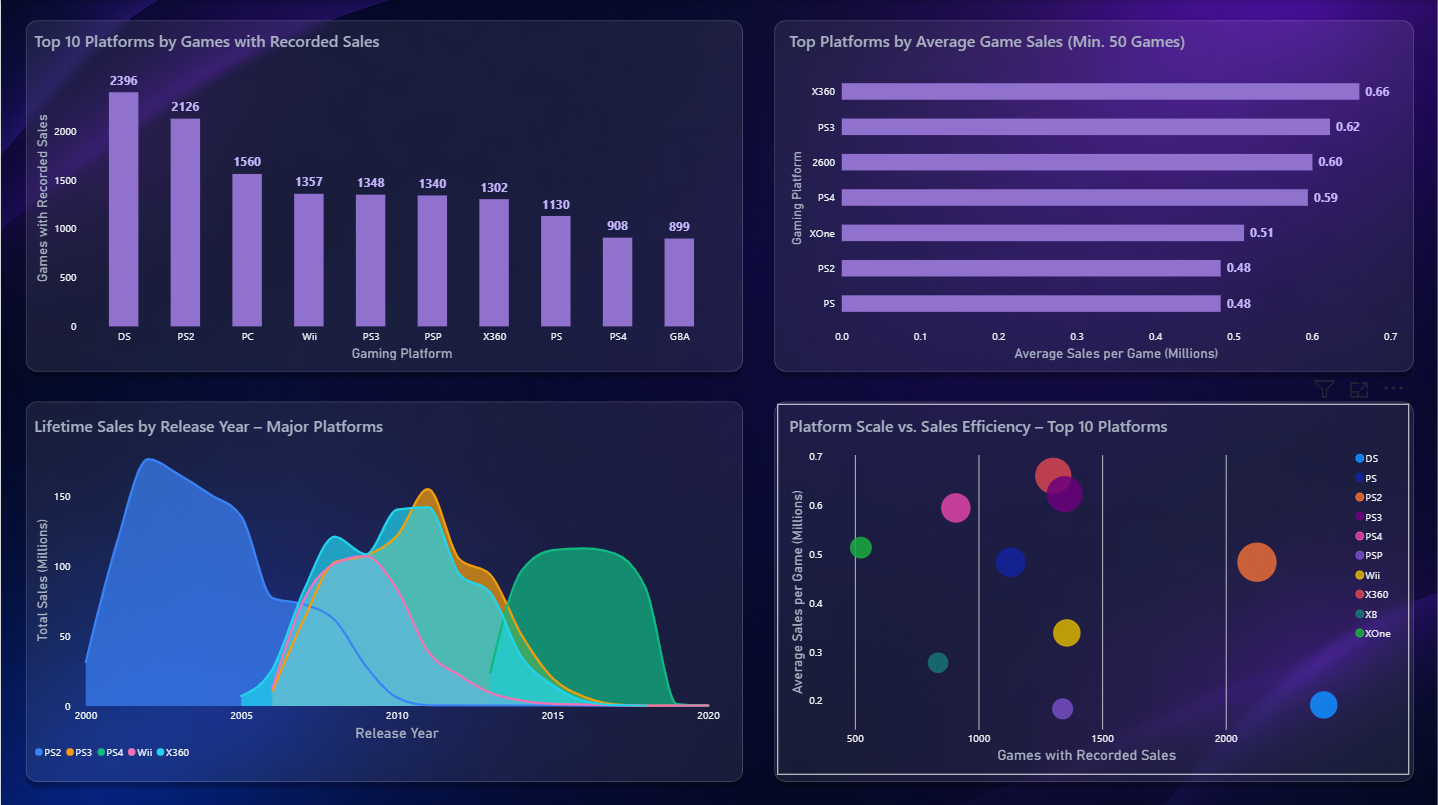

Layout of this report page (visuals, bound fields, positions):
{"tool":"powerbi","page":{"name":"PLATFORM PERFORMANCE","canvas":[1920,1080],"ordinal":1},"visuals":[{"type":"clusteredColumnChart","title":"Top 10 Platforms by Games with Recorded Sales","fields":{"Category":["Final_Data.console"],"Y":["Final_Data.Games with Recorded Sales"]},"box":[29,25.3,948.3,472.3],"z":0},{"type":"clusteredBarChart","title":"Top Platforms by Average Game Sales (Min. 50 Games)","fields":{"Category":["Final_Data.console"],"Y":["Avg(Final_Data.total_sales)"]},"box":[1036.9,25.3,845.1,472.3],"z":1000},{"type":"lineChart","title":"Lifetime Sales by Release Year – Major Platforms","fields":{"Category":["Final_Data.Release Year"],"Series":["Final_Data.console"],"Y":["Sum(Final_Data.total_sales)"]},"box":[29,539.3,948.3,495.8],"z":2000},{"type":"scatterChart","title":"Platform Scale vs. Sales Efficiency – Top 10 Platforms","fields":{"Series":["Final_Data.console"],"Size":["Final_Data.Total Recorded Sales"],"X":["Final_Data.Games with Recorded Sales"],"Y":["Final_Data.Average Sales per Game"]},"box":[1036.9,539.3,845.1,495.8],"z":3000}]}

Visuals, with their boxes in screenshot pixels (x1, y1, x2, y2), scaled from the page's 1920x1080 canvas onto the 1438x805 screenshot:
"Top 10 Platforms by Games with Recorded Sales" clusteredColumnChart: box(22, 19, 732, 371)
"Top Platforms by Average Game Sales (Min. 50 Games)" clusteredBarChart: box(777, 19, 1410, 371)
"Lifetime Sales by Release Year – Major Platforms" lineChart: box(22, 402, 732, 772)
"Platform Scale vs. Sales Efficiency – Top 10 Platforms" scatterChart: box(777, 402, 1410, 772)
